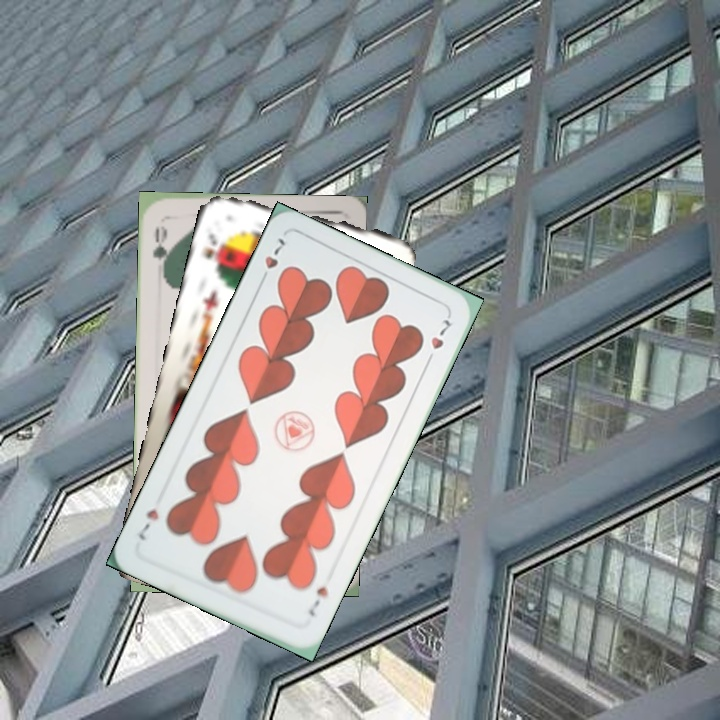GO: (148, 222, 172, 276)
H7: (255, 234, 290, 288), (305, 582, 331, 619)
SK: (198, 228, 226, 275)
